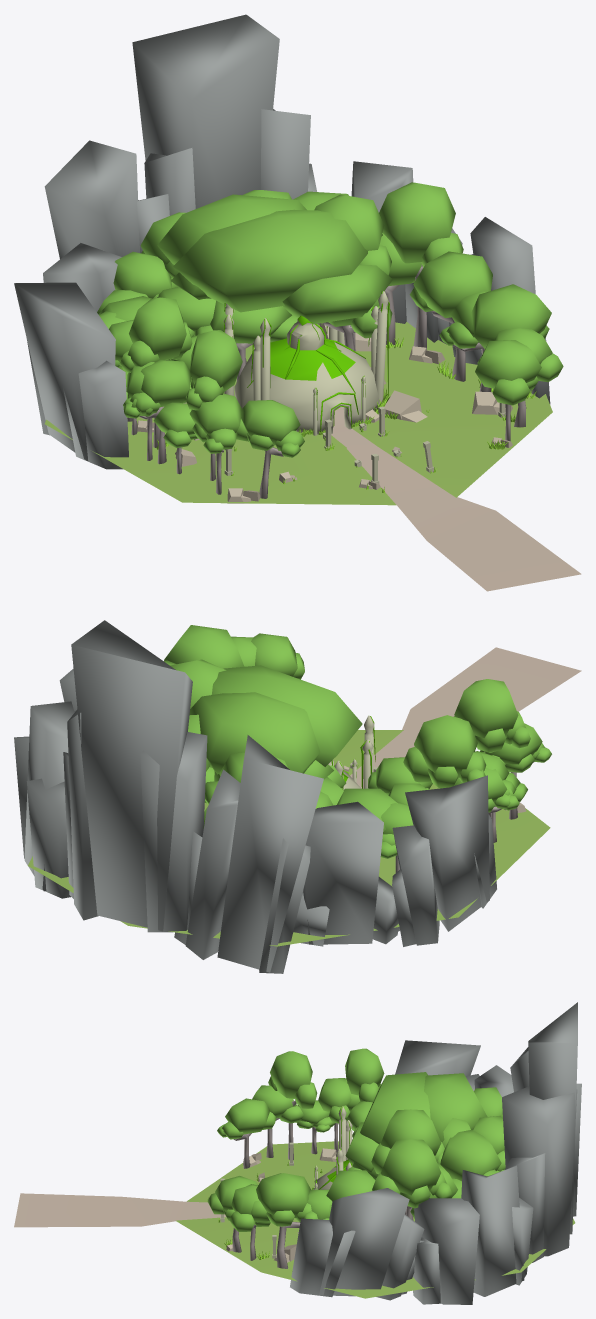
Rendered from temple.glb.
The picture shows the model from 3 angles, top to bottom: view 1: azimuth 30°, elevation 25°; view 2: azimuth 150°, elevation 25°; view 3: azimuth 270°, elevation 25°; orthographic projection. The views are drawn at different scales.
Visible parts, largest first — view 1: Object_12, Object_10, Object_2, Object_3, Object_8, Object_9, Object_13, Object_7, Object_11; view 2: Object_10, Object_12, Object_3, Object_2, Object_8; view 3: Object_10, Object_12, Object_2, Object_3, Object_9, Object_8, Object_7.
Boxes of the visible parts, <box> form: Object_12: <box>97,182,563,457</box>; Object_10: <box>14,14,550,469</box>; Object_2: <box>44,322,552,505</box>; Object_3: <box>331,406,581,591</box>; Object_8: <box>223,291,505,483</box>; Object_9: <box>127,264,526,498</box>; Object_13: <box>223,291,389,431</box>; Object_7: <box>137,323,512,503</box>; Object_11: <box>156,337,536,493</box>; Object_10: <box>14,620,496,973</box>; Object_12: <box>164,625,551,858</box>; Object_3: <box>350,647,581,788</box>; Object_2: <box>28,730,550,946</box>; Object_8: <box>328,715,418,789</box>; Object_10: <box>290,1002,581,1304</box>; Object_12: <box>207,1048,505,1231</box>; Object_2: <box>176,1141,575,1298</box>; Object_3: <box>14,1193,226,1227</box>; Object_9: <box>232,1100,413,1268</box>; Object_8: <box>220,1106,413,1258</box>; Object_7: <box>226,1148,336,1262</box>.
Size of the model in its own units: 32.8 by 21.39 by 49.1.
